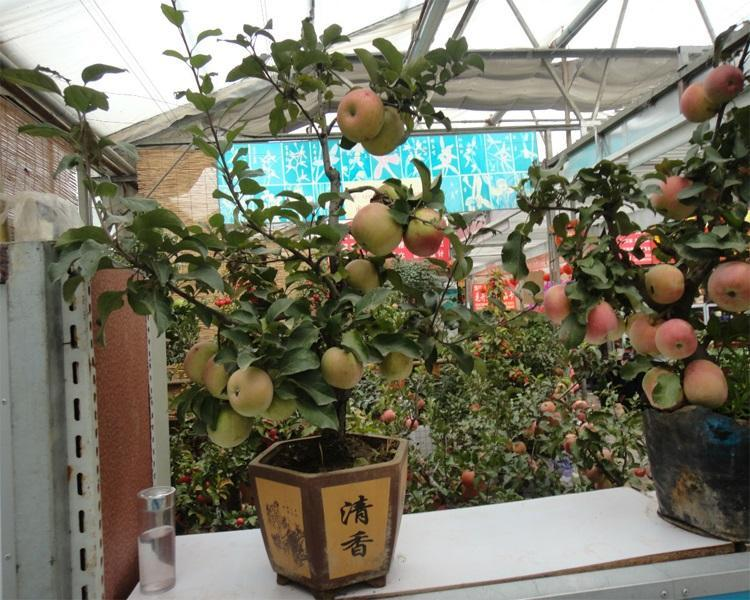apple: (349, 199, 405, 254), (335, 86, 384, 141), (225, 365, 273, 416), (682, 358, 729, 408), (363, 104, 405, 158), (650, 172, 697, 220), (708, 260, 750, 312), (404, 208, 445, 257), (205, 408, 254, 449), (319, 344, 363, 389), (643, 366, 683, 411), (642, 263, 685, 303), (655, 320, 696, 361), (581, 299, 616, 346), (703, 63, 744, 103), (679, 84, 719, 122), (627, 313, 662, 355), (343, 258, 380, 294), (543, 284, 571, 325)
